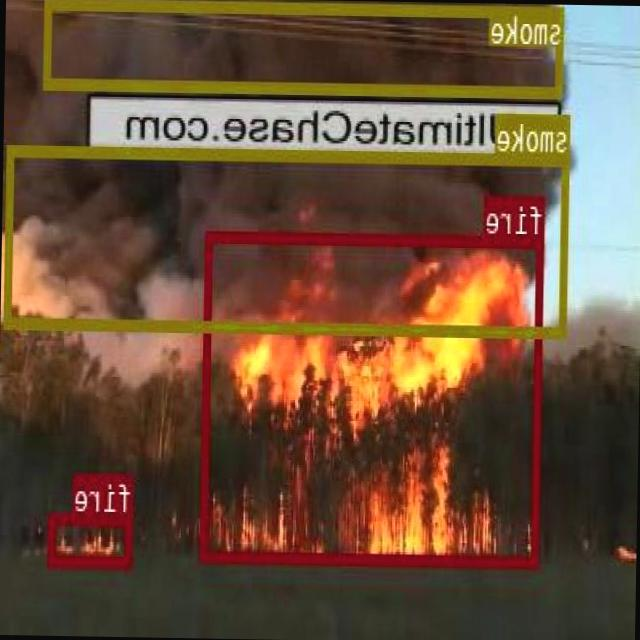fire: (202, 230, 544, 564), (49, 512, 134, 566)
smoke: (6, 143, 571, 334), (45, 0, 564, 94)
